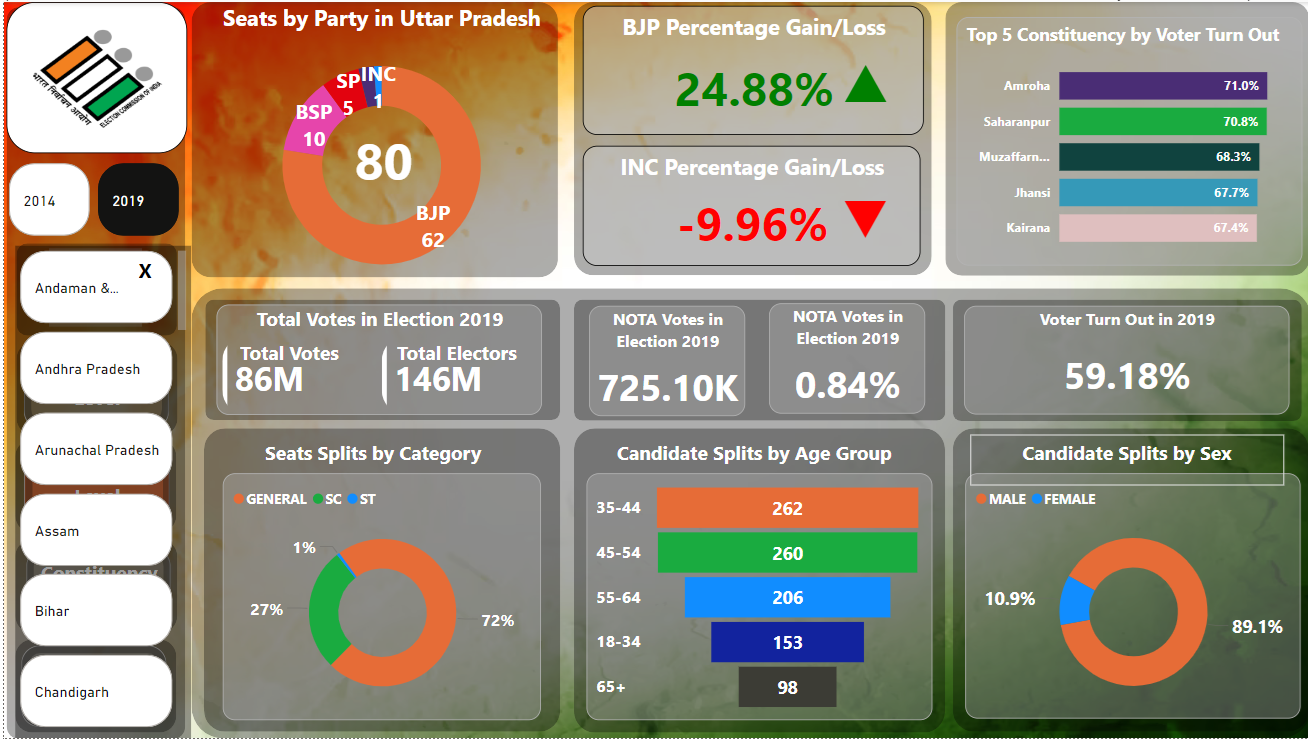

What the dashboard file says about the page in this screenshot:
{"tool":"powerbi","page":{"name":"State Level","canvas":[1280,720],"ordinal":2},"visuals":[{"type":"image","box":[0,0,1280.3,720.2],"z":0},{"type":"donutChart","fields":{"Category":["CombinedElectionData.Party"],"Y":["CountNonNull(CombinedElectionData.IsWinningCandidate)"]},"box":[116,0,506.9,290.9],"z":0,"group":"g2"},{"type":"shape","box":[11.6,623.2,157.6,91.1],"z":0,"group":"g1"},{"type":"textbox","box":[17.4,629,141.7,79.5],"z":500,"group":"g1"},{"type":"card","title":"Seats in 2019","fields":{"Values":["Count(CombinedElectionData.Constituency)"]},"box":[288.2,82.1,166,142.8],"z":1000,"group":"g2"},{"type":"shape","box":[183.9,280.3,1095.8,440.4],"z":1000},{"type":"actionButton","box":[17.4,629,141.7,79.5],"z":1000,"group":"g1"},{"type":"shape","box":[920.9,0,356,267.7],"z":2000},{"type":"shape","box":[557.5,0,350,267.5],"z":3000},{"type":"shape","box":[183.8,0,358.7,269.5],"z":4000},{"type":"shape","box":[195.2,416.5,348.5,297],"z":5000},{"type":"shape","box":[196.7,290.7,347,118],"z":6000},{"type":"shape","box":[558.2,416.5,363,297.9],"z":7000},{"type":"shape","box":[3,4.4,175,716.2],"z":8000},{"type":"shape","box":[11.9,235.8,157.2,90.5],"z":9000},{"type":"shape","box":[12.4,332.2,157.6,91.2],"z":10000},{"type":"barChart","title":"Top 5 Constituency by Voter Turn Out","fields":{"Y":["CombinedElectionData.Voter Turnout ratio"],"Category":["CombinedElectionData.Constituency"],"Series":["CombinedElectionData.Constituency"]},"box":[931.2,14.8,338.1,243.2],"z":11000},{"type":"donutChart","title":"Seats in 2019","fields":{"Category":["CombinedElectionData.Category"],"Y":["CountNonNull(CombinedElectionData.Category)"]},"box":[213.5,461.2,311.4,241.7],"z":12000},{"type":"funnel","title":"Seats in 2019","fields":{"Category":["CombinedElectionData.Age Bin"],"Y":["CountNonNull(CombinedElectionData.Age Bin)"]},"box":[569.7,461.3,338,241.5],"z":13000},{"type":"textbox","box":[208.2,423.7,306.6,49.2],"z":14000},{"type":"textbox","box":[581.3,423.7,306.6,49.2],"z":15000},{"type":"shape","box":[928.3,416.5,348.5,297],"z":16000},{"type":"group","id":"g1","title":"Vote % at National & State Level","box":[11.6,623.2,157.6,91.1],"z":16500},{"type":"donutChart","title":"Seats in 2019","fields":{"Category":["CombinedElectionData.Sex"],"Y":["CountNonNull(CombinedElectionData.Sex)"]},"box":[940.1,461,328,240.2],"z":17000},{"type":"textbox","box":[945.7,423.7,306.6,49.2],"z":18000},{"type":"cardVisual","fields":{"Data":["Sum(CombinedElectionData.Votes)","CombinedElectionData.Total_Electors"]},"box":[208.2,296.4,318.1,108],"z":19000},{"type":"textbox","box":[202,325.4,154.7,49.2],"z":20000},{"type":"textbox","box":[366,325.4,154.7,49.2],"z":21000},{"type":"shape","box":[557.6,290.6,363.3,118.6],"z":22000},{"type":"card","fields":{"Values":["Sum(CombinedElectionData.Votes)"]},"box":[572.4,296.6,152.7,108.2],"z":23000},{"type":"card","fields":{"Values":["CombinedElectionData.NOTAPercentage"]},"box":[748.9,295.1,152.7,108.2],"z":24000},{"type":"image","box":[3,0,176.5,148.3],"z":25000},{"type":"image","box":[44.6,240.9,91,76.7],"z":26000},{"type":"shape","box":[928.6,290.5,341.5,119],"z":27000},{"type":"textbox","box":[19.7,339,141.9,78.8],"z":28000},{"type":"shape","box":[10.8,428,157.6,91.2],"z":29000},{"type":"textbox","box":[20.1,434.2,142.2,78.8],"z":30000},{"type":"actionButton","box":[20.8,434.2,141.7,80],"z":31000},{"type":"shape","box":[11.4,526,158.5,91.3],"z":31125},{"type":"textbox","box":[22.2,533.8,140.9,77.1],"z":31250},{"type":"actionButton","box":[22.2,533,141.1,80],"z":31500},{"type":"actionButton","box":[19,338,142,80],"z":32000},{"type":"actionButton","title":"Slicer Open","box":[44.6,240.9,91,76.7],"z":33000},{"type":"group","id":"g2","title":"Group 2","box":[116,0,506.9,290.9],"z":34000},{"type":"card","fields":{"Values":["CombinedElectionData.Voter Turnout ratio"]},"box":[939.5,296.7,318,106.6],"z":35000},{"type":"advancedSlicerVisual","fields":{"Values":["CombinedElectionData.Year"]},"box":[0,152.7,176.5,81.6],"z":37000},{"type":"card","title":"BJP Percentage Gain/Loss","fields":{"Values":["CombinedElectionData.PercentageDifference"]},"box":[565.8,3.6,333.7,126.7],"z":38000},{"type":"card","fields":{"Values":["CombinedElectionData.Icon_C"]},"box":[812,42,62.3,69.7],"z":39000},{"type":"card","title":"INC Percentage Gain/Loss","fields":{"Values":["CombinedElectionData.PercentageDifference"]},"box":[565.8,141,330.2,117.8],"z":40000},{"type":"card","fields":{"Values":["CombinedElectionData.Icon_C"]},"box":[806.7,174,71.4,71.4],"z":41000}]}

Visuals, with their boxes in screenshot pixels (x1, y1, x2, y2), scaled from the page's 1280x720 canvas onto the 1308x740 screenshot:
image: x1=0, y1=0, x2=1307, y2=739
donutChart - CombinedElectionData.Party x CountNonNull(CombinedElectionData.IsWinningCandidate): x1=119, y1=0, x2=637, y2=299
shape: x1=12, y1=641, x2=173, y2=734
textbox: x1=18, y1=646, x2=163, y2=728
"Seats in 2019" card: x1=295, y1=84, x2=464, y2=231
shape: x1=188, y1=288, x2=1307, y2=739
actionButton: x1=18, y1=646, x2=163, y2=728
shape: x1=941, y1=0, x2=1305, y2=275
shape: x1=570, y1=0, x2=927, y2=275
shape: x1=188, y1=0, x2=554, y2=277
shape: x1=199, y1=428, x2=556, y2=733
shape: x1=201, y1=299, x2=556, y2=420
shape: x1=570, y1=428, x2=941, y2=734
shape: x1=3, y1=5, x2=182, y2=739
shape: x1=12, y1=242, x2=173, y2=335
shape: x1=13, y1=341, x2=174, y2=435
"Top 5 Constituency by Voter Turn Out" barChart: x1=952, y1=15, x2=1297, y2=265
"Seats in 2019" donutChart: x1=218, y1=474, x2=536, y2=722
"Seats in 2019" funnel: x1=582, y1=474, x2=928, y2=722
textbox: x1=213, y1=435, x2=526, y2=486
textbox: x1=594, y1=435, x2=907, y2=486
shape: x1=949, y1=428, x2=1305, y2=733
"Vote % at National & State Level" group: x1=12, y1=641, x2=173, y2=734
"Seats in 2019" donutChart: x1=961, y1=474, x2=1296, y2=721
textbox: x1=966, y1=435, x2=1280, y2=486
cardVisual - Sum(CombinedElectionData.Votes) x CombinedElectionData.Total_Electors: x1=213, y1=305, x2=538, y2=416
textbox: x1=206, y1=334, x2=365, y2=385
textbox: x1=374, y1=334, x2=532, y2=385
shape: x1=570, y1=299, x2=941, y2=421
card - Sum(CombinedElectionData.Votes): x1=585, y1=305, x2=741, y2=416
card - CombinedElectionData.NOTAPercentage: x1=765, y1=303, x2=921, y2=415
image: x1=3, y1=0, x2=183, y2=152
image: x1=46, y1=248, x2=139, y2=326
shape: x1=949, y1=299, x2=1298, y2=421
textbox: x1=20, y1=348, x2=165, y2=429
shape: x1=11, y1=440, x2=172, y2=534
textbox: x1=21, y1=446, x2=166, y2=527
actionButton: x1=21, y1=446, x2=166, y2=528
shape: x1=12, y1=541, x2=174, y2=634
textbox: x1=23, y1=549, x2=167, y2=628
actionButton: x1=23, y1=548, x2=167, y2=630
actionButton: x1=19, y1=347, x2=165, y2=430
"Slicer Open" actionButton: x1=46, y1=248, x2=139, y2=326
"Group 2" group: x1=119, y1=0, x2=637, y2=299
card - CombinedElectionData.Voter Turnout ratio: x1=960, y1=305, x2=1285, y2=415
advancedSlicerVisual - CombinedElectionData.Year: x1=0, y1=157, x2=180, y2=241
"BJP Percentage Gain/Loss" card: x1=578, y1=4, x2=919, y2=134
card - CombinedElectionData.Icon_C: x1=830, y1=43, x2=893, y2=115
"INC Percentage Gain/Loss" card: x1=578, y1=145, x2=916, y2=266
card - CombinedElectionData.Icon_C: x1=824, y1=179, x2=897, y2=252
